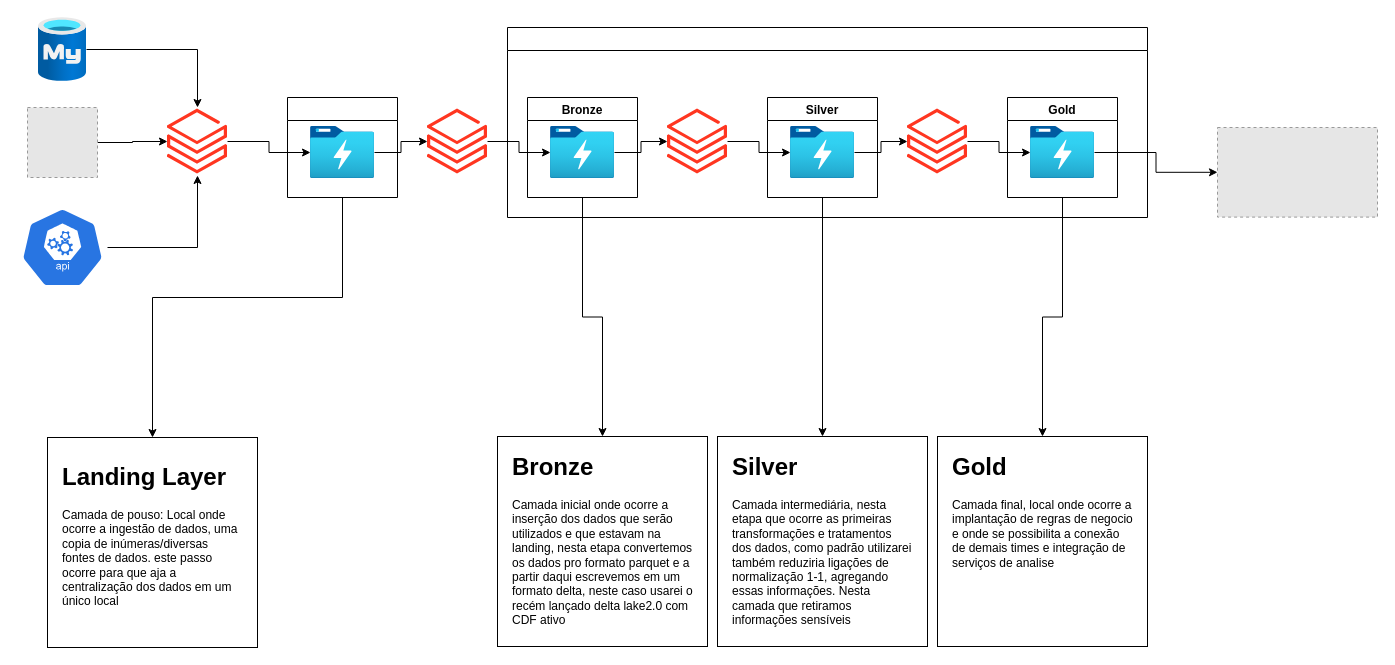
Image size: 1395x665. Some labels were removed from this diagram. Grey dashed boxes stand in for pictures. The shapes that lost their labels are listed below. From the top down, each one's box as (x1, y1, x2, y2) in pixels, then its label:
(506, 26, 1148, 218): Delta Lake
(286, 96, 398, 198): Landing Layer
